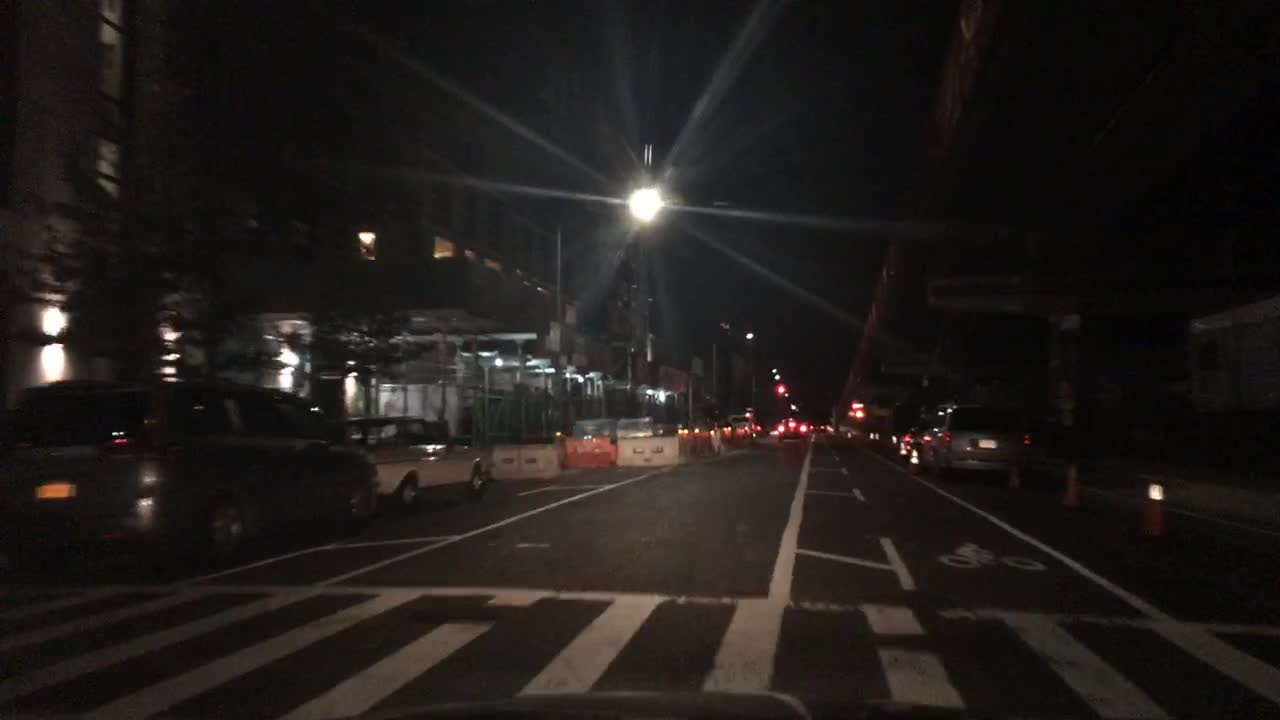car: (0, 374, 380, 580), (319, 414, 486, 512), (915, 402, 1047, 477), (551, 420, 617, 467), (897, 421, 921, 465), (617, 416, 652, 443), (674, 415, 709, 441), (577, 421, 618, 441), (773, 419, 810, 439), (728, 414, 759, 435), (709, 421, 737, 443), (838, 426, 861, 441), (654, 420, 672, 436), (811, 425, 833, 433)
traffic sign: (547, 318, 564, 354), (691, 354, 705, 379)
